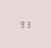nine: (19, 19, 24, 27)
three: (25, 19, 30, 28)
